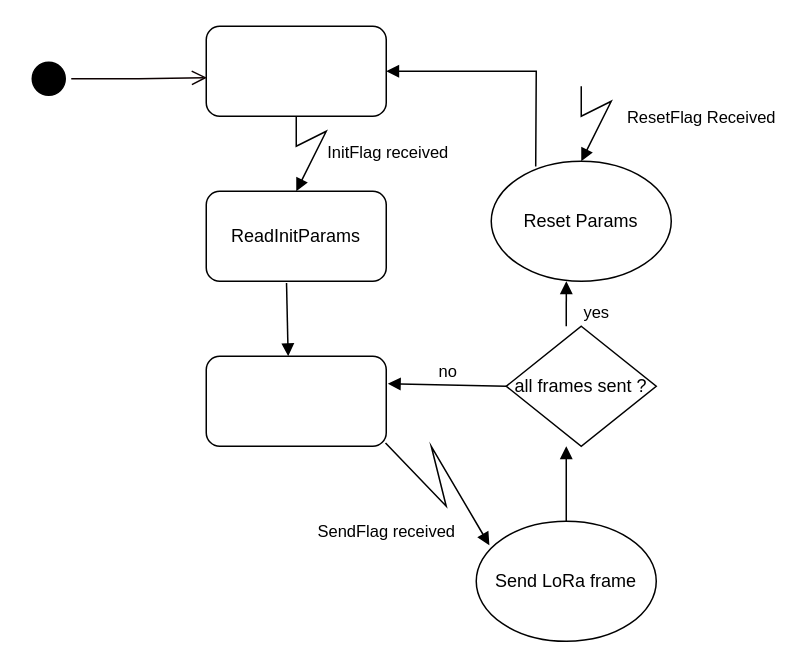
Some shapes in this 801 by 668 pixel diagram are drawn without their labels. Each missing label, with the centre of its shape:
"WaitForInitFlag" goes at pixel 295 70.
"WaitForSendFlag" goes at pixel 295 400.
